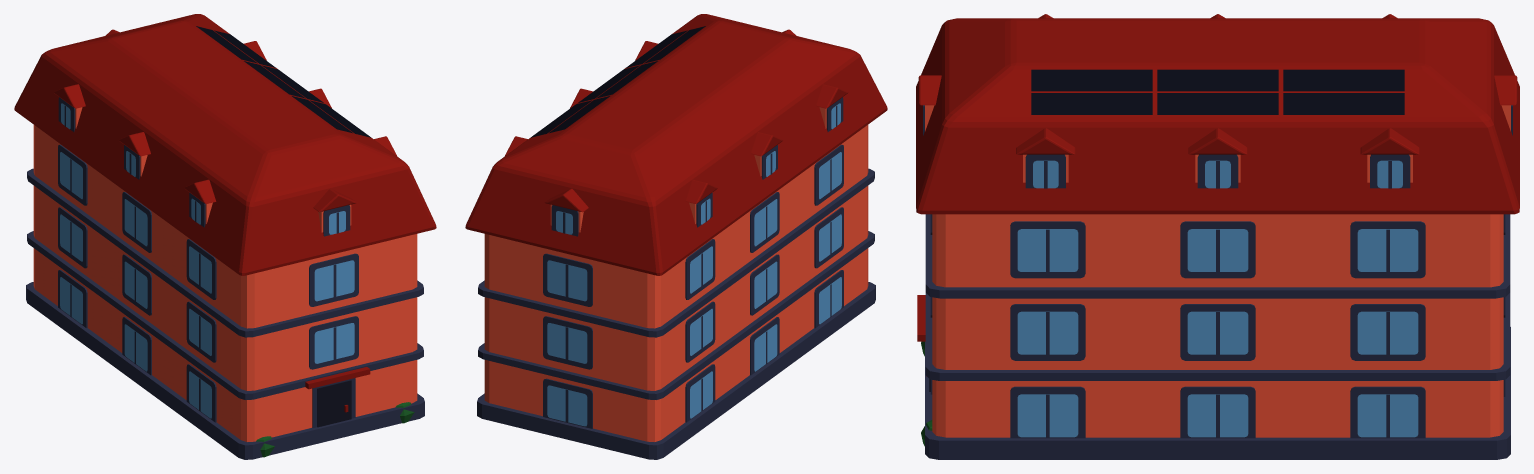
File: house-1x2-3f-mansard-c-solar.glb
3 renders of one model, left to right at view 1: azimuth 30°, elevation 25°; view 2: azimuth 150°, elevation 25°; view 3: azimuth 270°, elevation 25°, orthographic. The views are drawn at different scales.
Parts seen in each view (by area): view 1: house-1x2-3f-mansard-c-solar; view 2: house-1x2-3f-mansard-c-solar; view 3: house-1x2-3f-mansard-c-solar.
Part boxes in pixels (box(x1,y1,x2,y2)): house-1x2-3f-mansard-c-solar: box(14, 14, 436, 459); house-1x2-3f-mansard-c-solar: box(465, 14, 887, 459); house-1x2-3f-mansard-c-solar: box(916, 14, 1519, 459).
Bounding box in the file's own units: 0.9876 × 1.3 × 1.99.
1 material, 1 textured.
